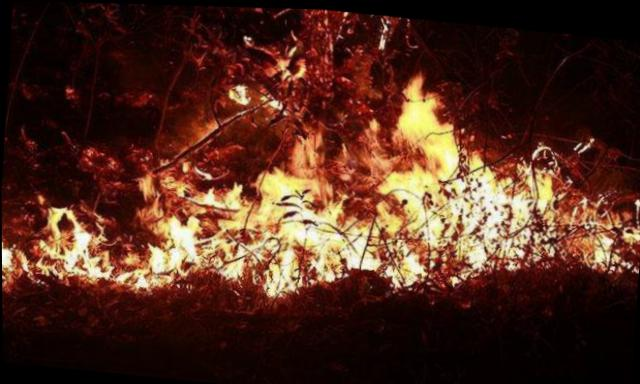fire: (6, 37, 638, 334)
